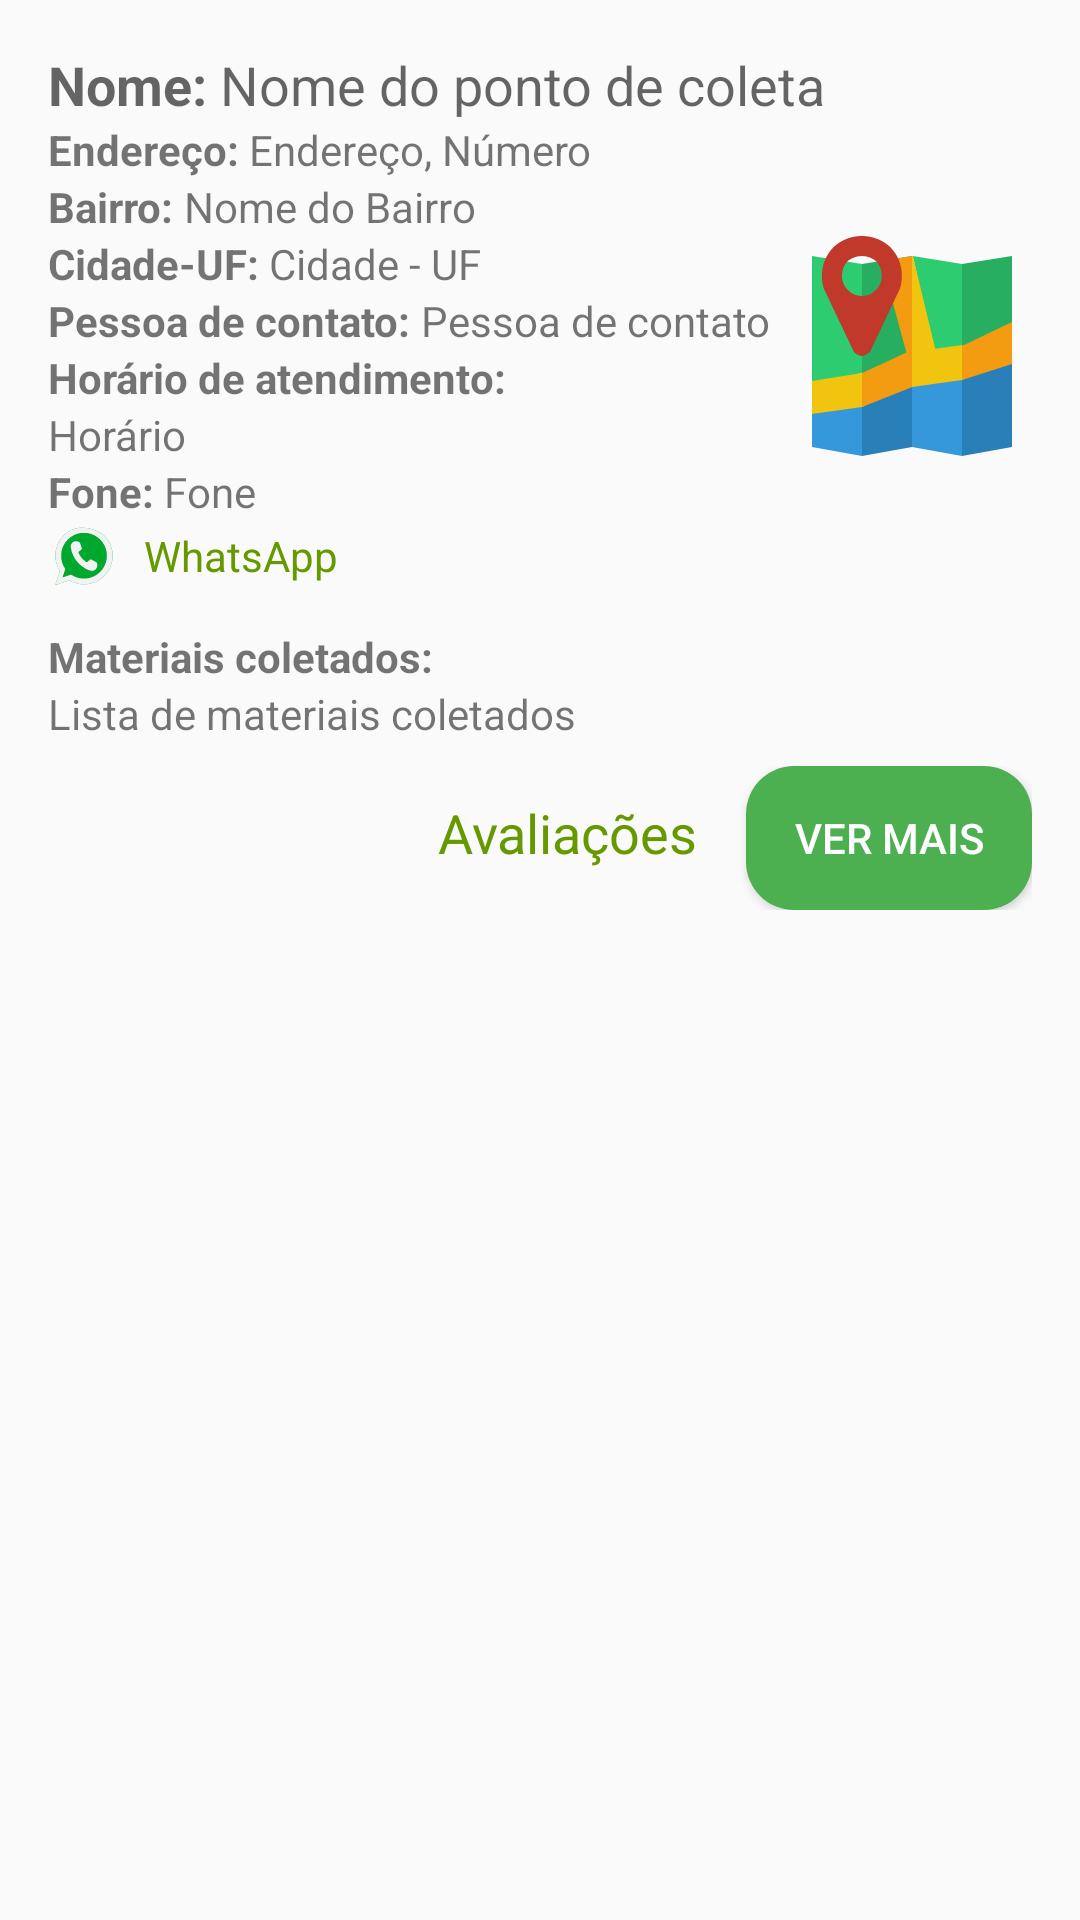

Named icons in this screenshot (1080x1920) and their centers, [x,y]:
map: [912,346]
